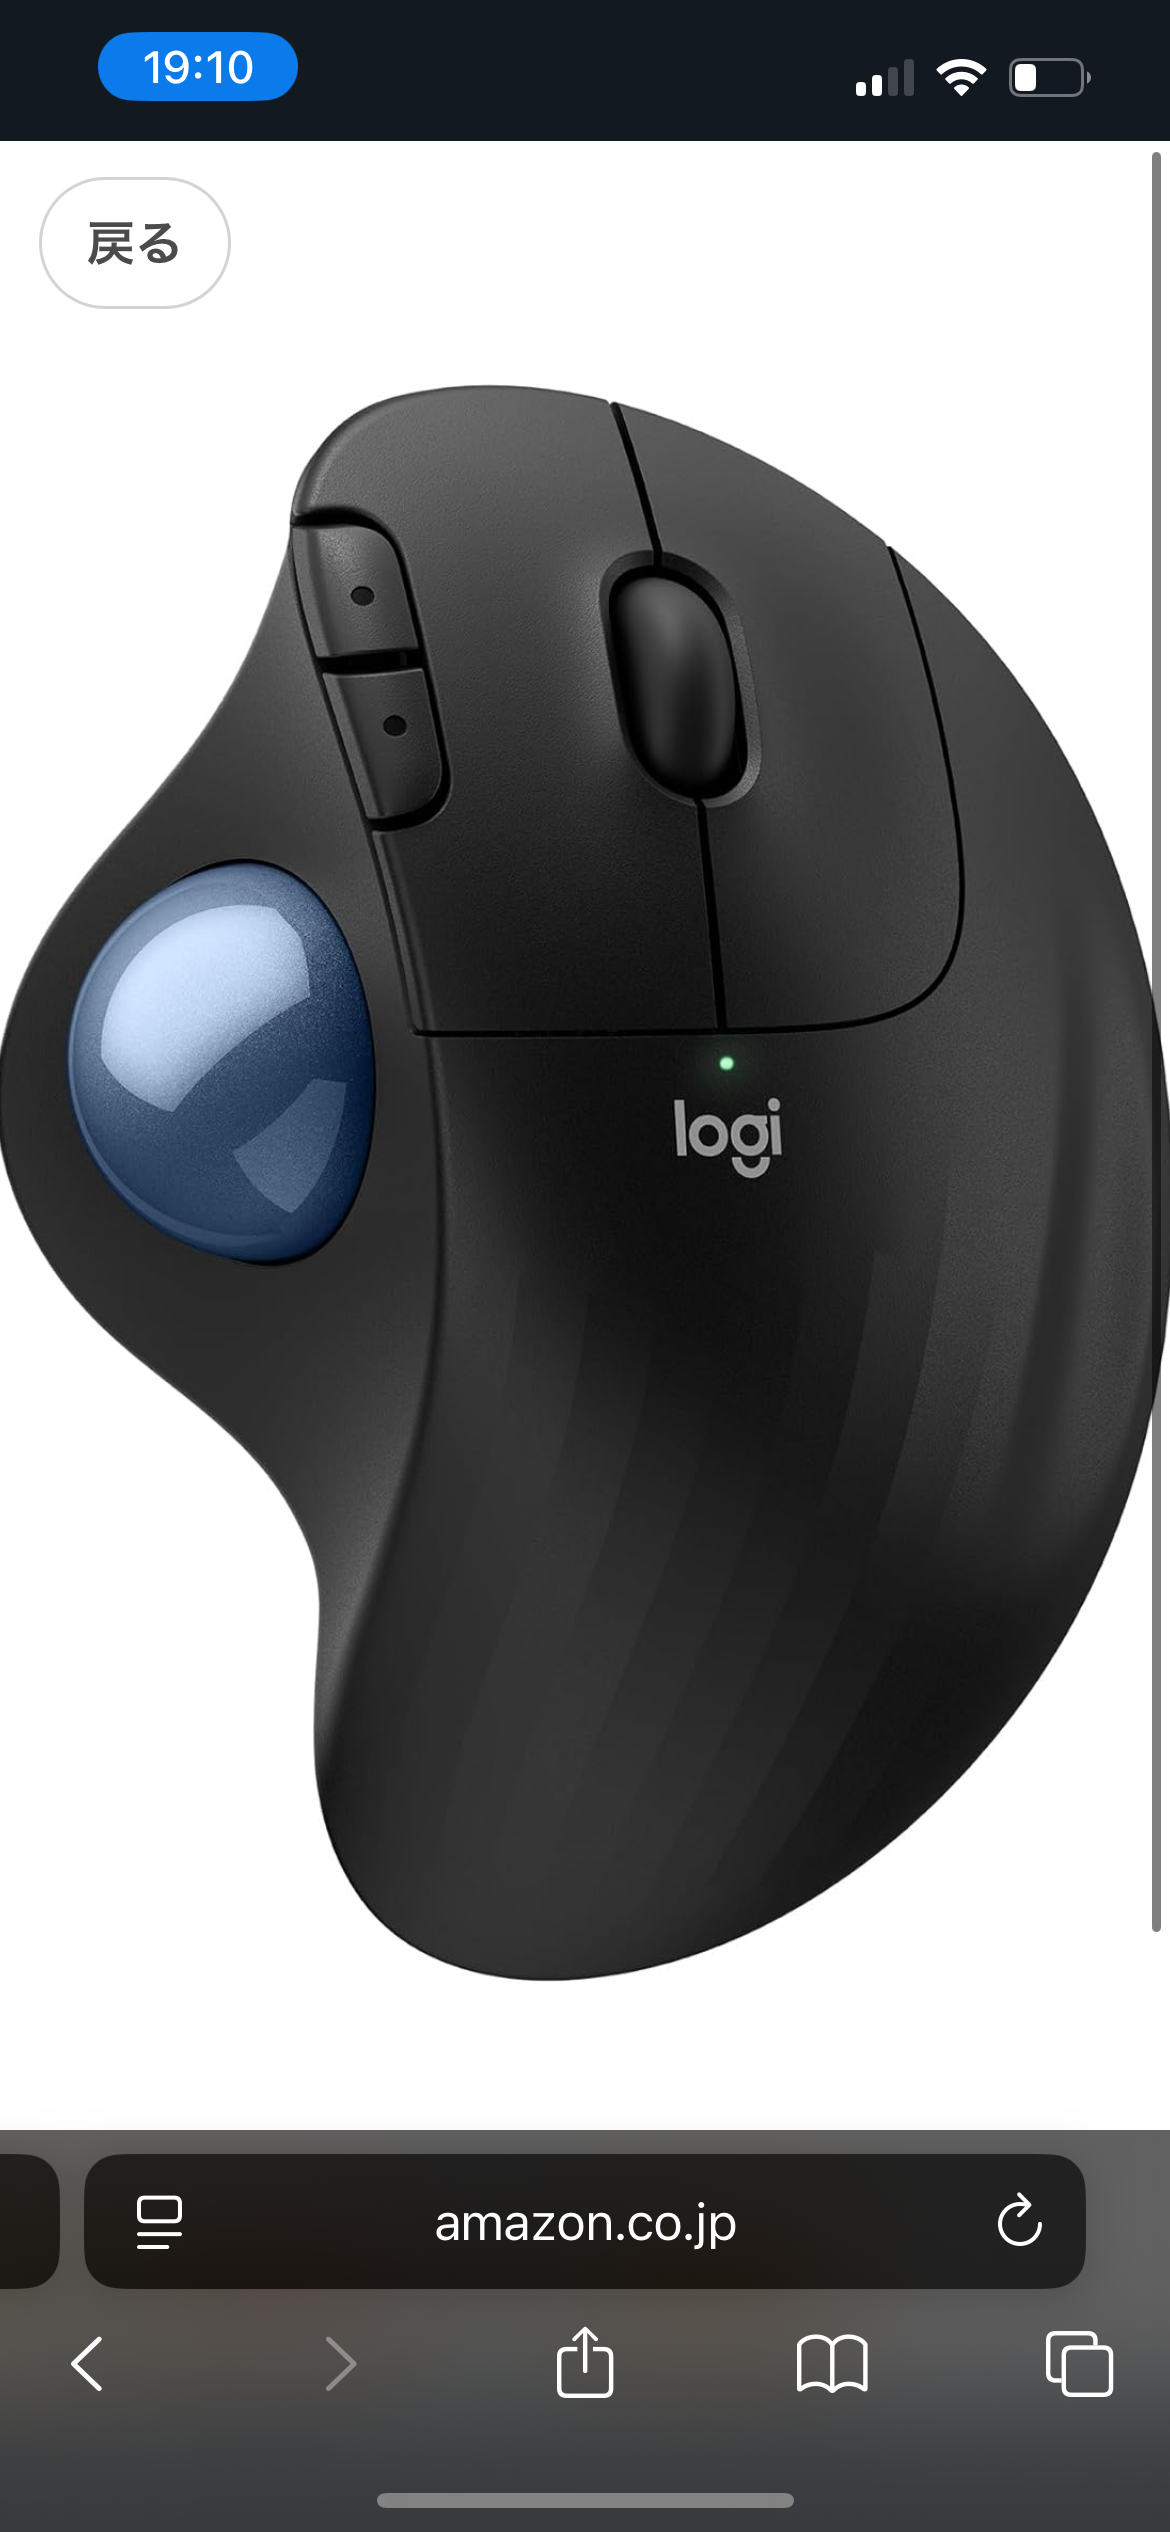mouse: (481, 346, 687, 2009)
